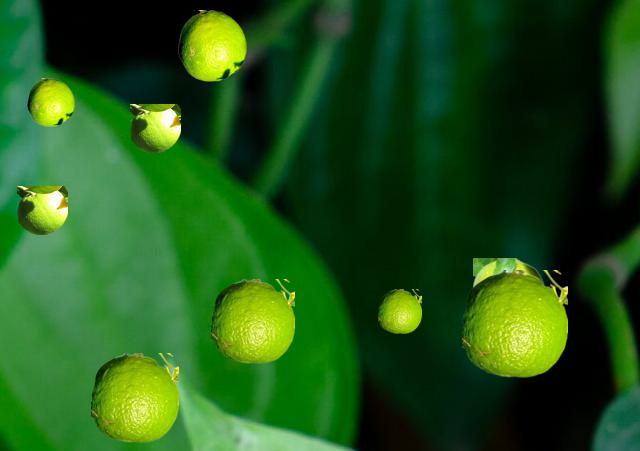dalandan: (462, 270, 566, 376), (91, 353, 177, 441), (211, 279, 293, 362), (178, 10, 245, 80), (130, 104, 179, 151), (17, 186, 66, 233), (27, 78, 73, 125), (473, 258, 544, 285), (378, 289, 420, 332)
